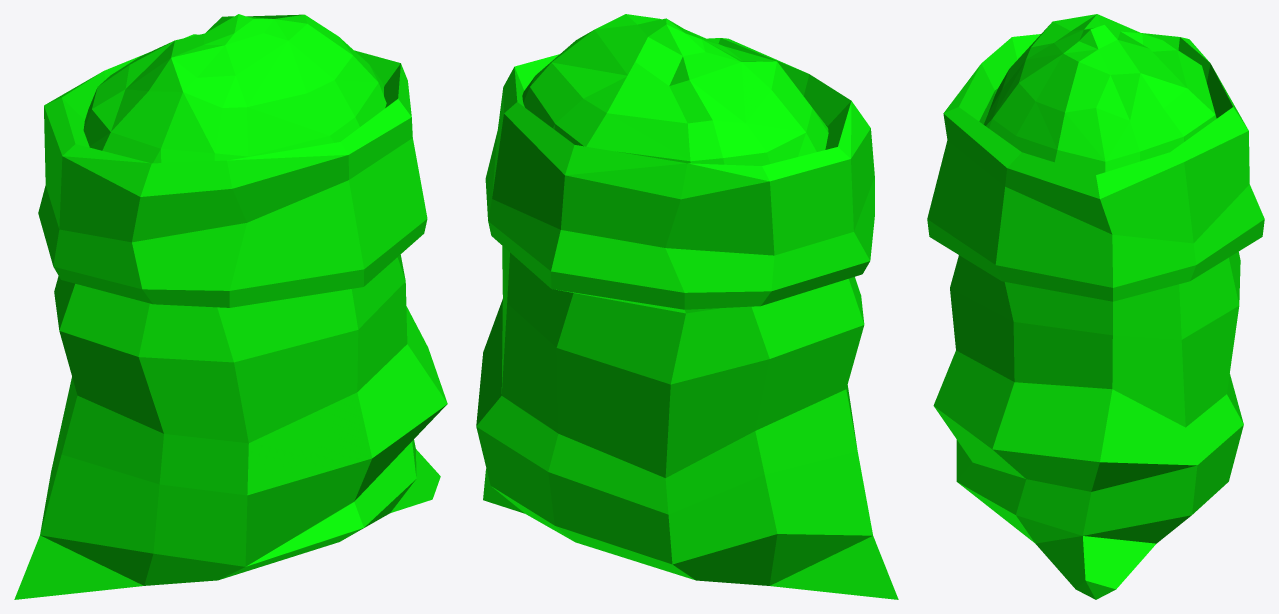
File: SM_Bag_Spice_Opened_Full_Fantasy.fbx
The picture shows the model from 3 angles, left to right: view 1: azimuth 30°, elevation 25°; view 2: azimuth 150°, elevation 25°; view 3: azimuth 270°, elevation 25°; orthographic projection. The views are drawn at different scales.
Visible parts, largest first — view 1: bag-spice-opened-full-fantasy; view 2: bag-spice-opened-full-fantasy; view 3: bag-spice-opened-full-fantasy.
Part boxes in pixels (left/top/right/bottom): bag-spice-opened-full-fantasy: left=14, top=14, right=447, bottom=599; bag-spice-opened-full-fantasy: left=476, top=14, right=898, bottom=599; bag-spice-opened-full-fantasy: left=927, top=14, right=1264, bottom=599.
Bounding box in the file's own units: 0.6185 × 0.7394 × 0.46.
